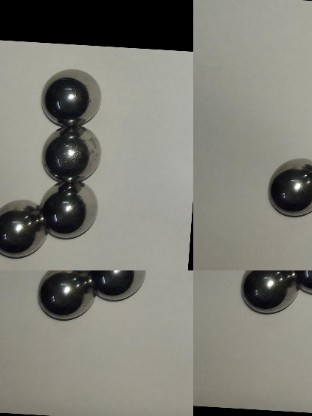ironball: (37, 63, 106, 129), (27, 125, 103, 183), (0, 194, 55, 263), (38, 183, 105, 239), (41, 264, 91, 324), (265, 151, 310, 215), (238, 264, 296, 313), (87, 269, 151, 311), (292, 259, 310, 303)
